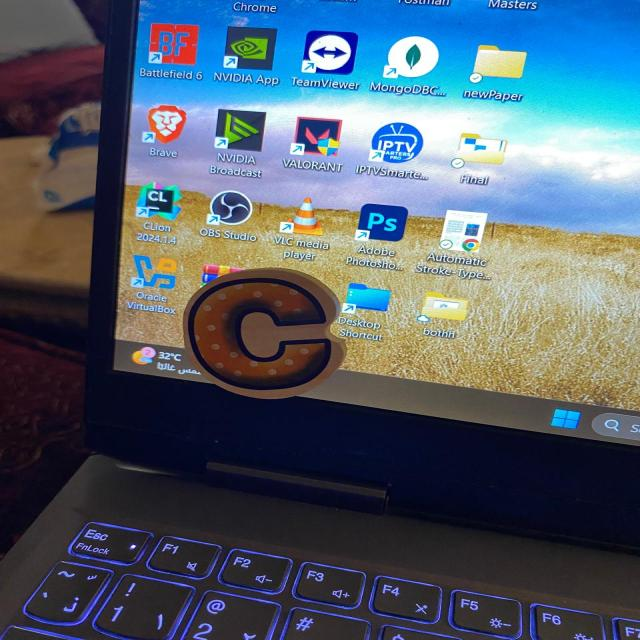C: (183, 268, 346, 398)
